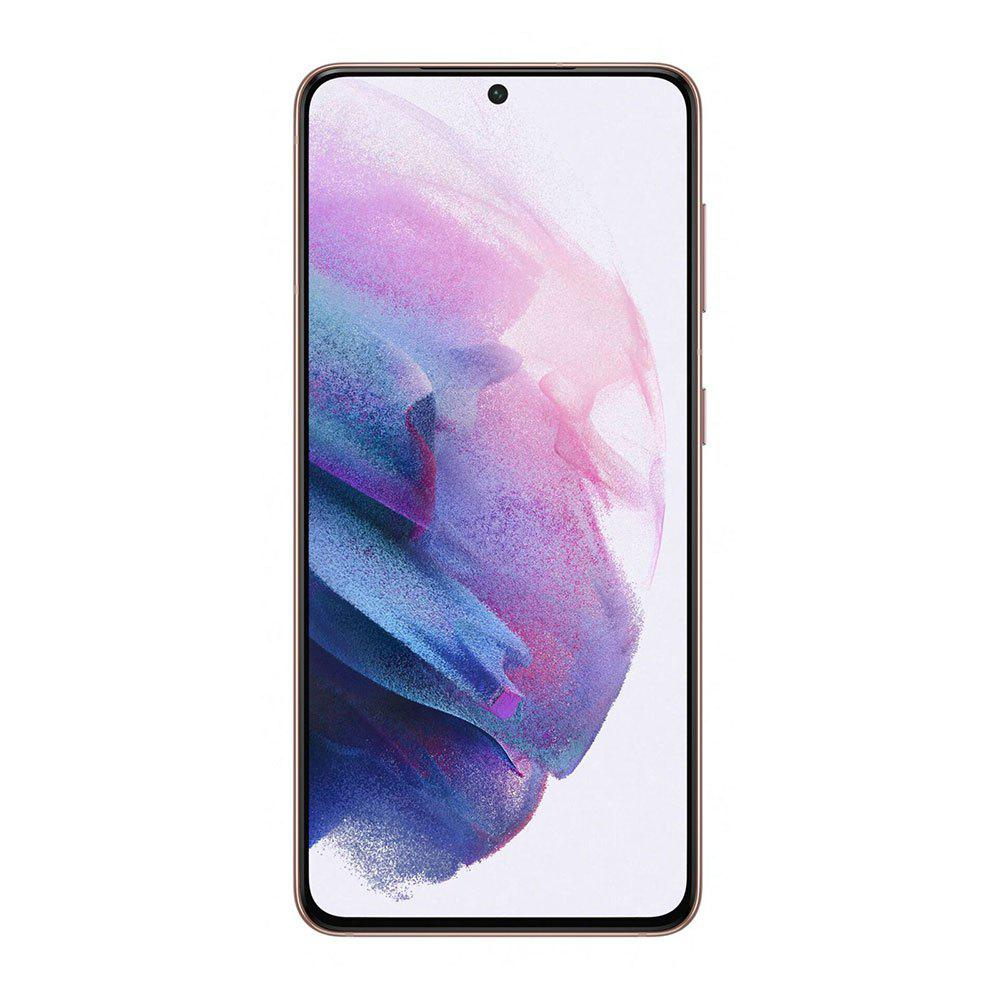Smartphone: (281, 34, 710, 949)
